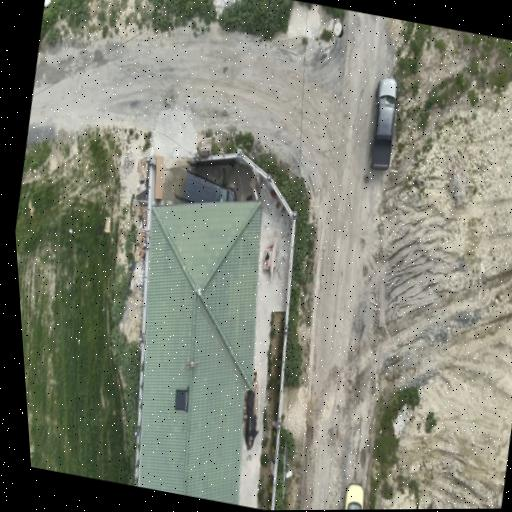car: (370, 76, 398, 170), (183, 173, 235, 203), (345, 485, 363, 509)
